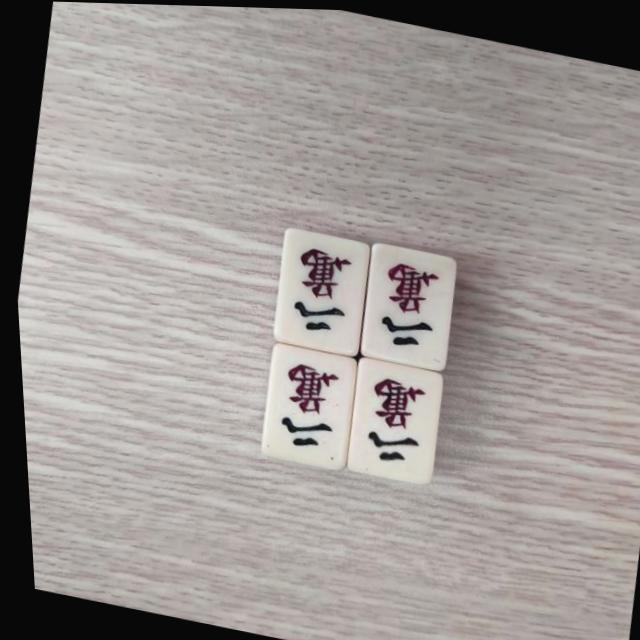sc2: (341, 361, 434, 476), (358, 247, 448, 360), (257, 351, 347, 461), (270, 232, 359, 342)
